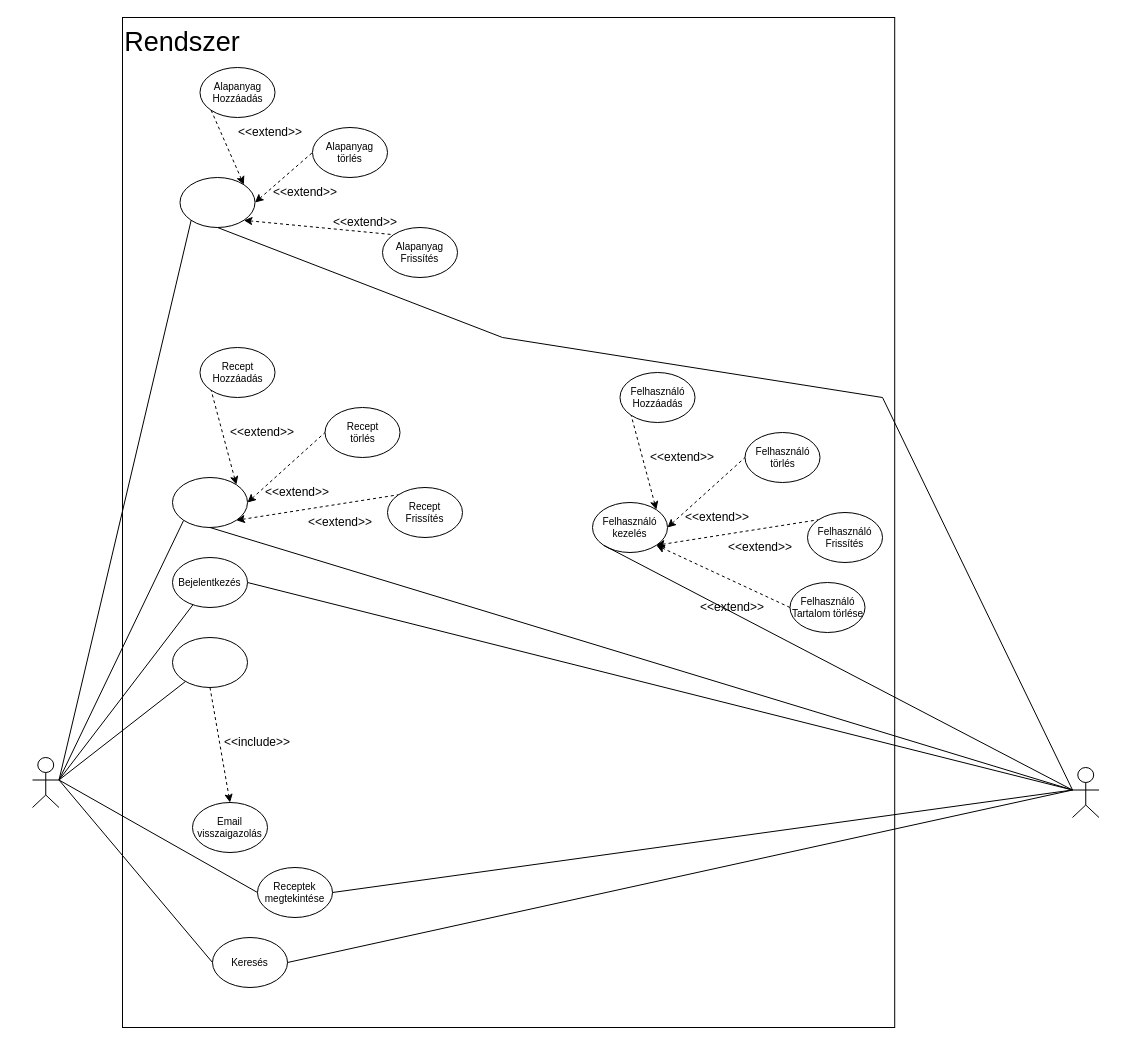
The diagram is 1139 pixels wide and 1045 high, and some of its shapes have lost their labels. Each missing label, with the centre of its shape:
"<<secondary>> Felhasználó" belongs at point 1085,792.
"Felhasználó" belongs at point 45,782.
"Hütő" belongs at point 217,202.
"Recept kezelés" belongs at point 210,502.
"Regisztrálás" belongs at point 210,662.
